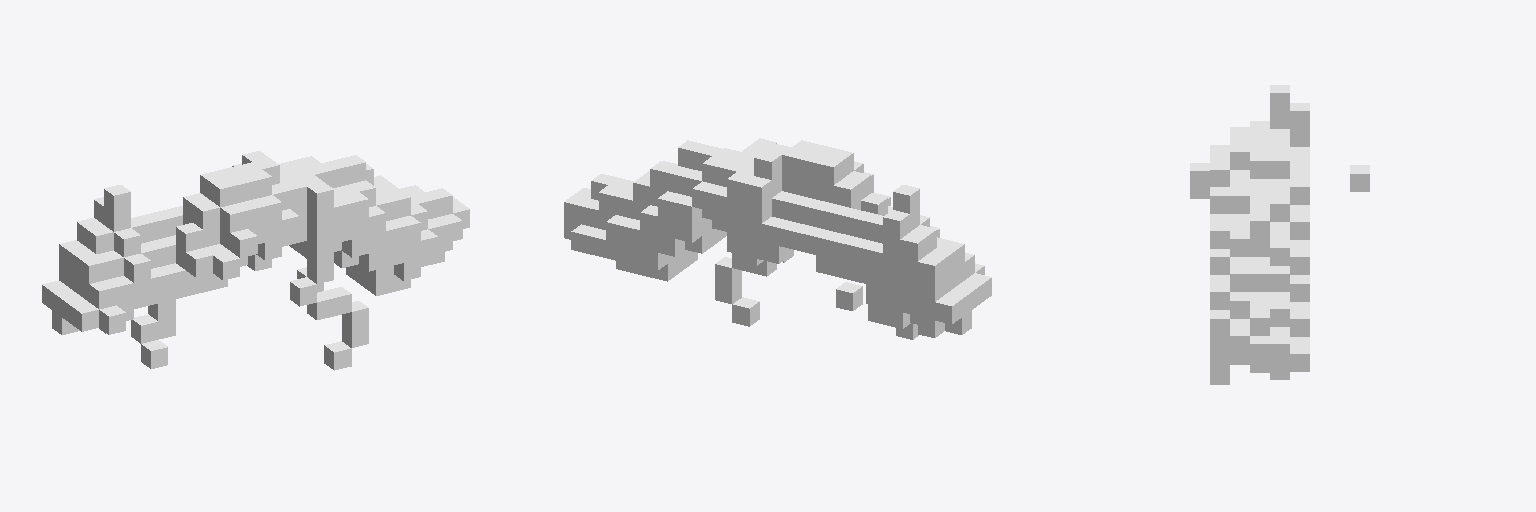
Rendered from Liana3.obj.
3 views of the same model, side by side, from view 1: azimuth 30°, elevation 25°; view 2: azimuth 150°, elevation 25°; view 3: azimuth 270°, elevation 25° (orthographic).
Parts seen in each view (by area): view 1: object 1; view 2: object 1; view 3: object 1.
Part boxes in pixels (x1,y1,x2,y2): object 1: (42, 151, 469, 370); object 1: (564, 138, 991, 339); object 1: (1190, 85, 1369, 384).
Bounding box in the file's own units: 2.3 × 1.1 × 0.9.